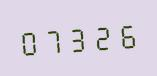seven: (42, 22, 65, 56)
six: (114, 17, 137, 51)
three: (66, 20, 89, 55)
two: (90, 19, 113, 53)
zero: (18, 24, 41, 58)
